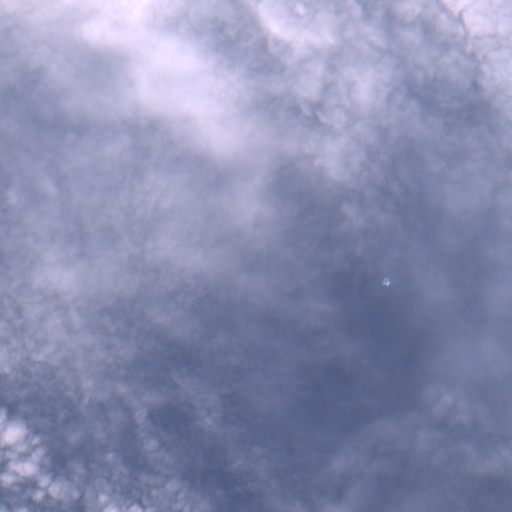Iceberg: (383, 278, 389, 285)
